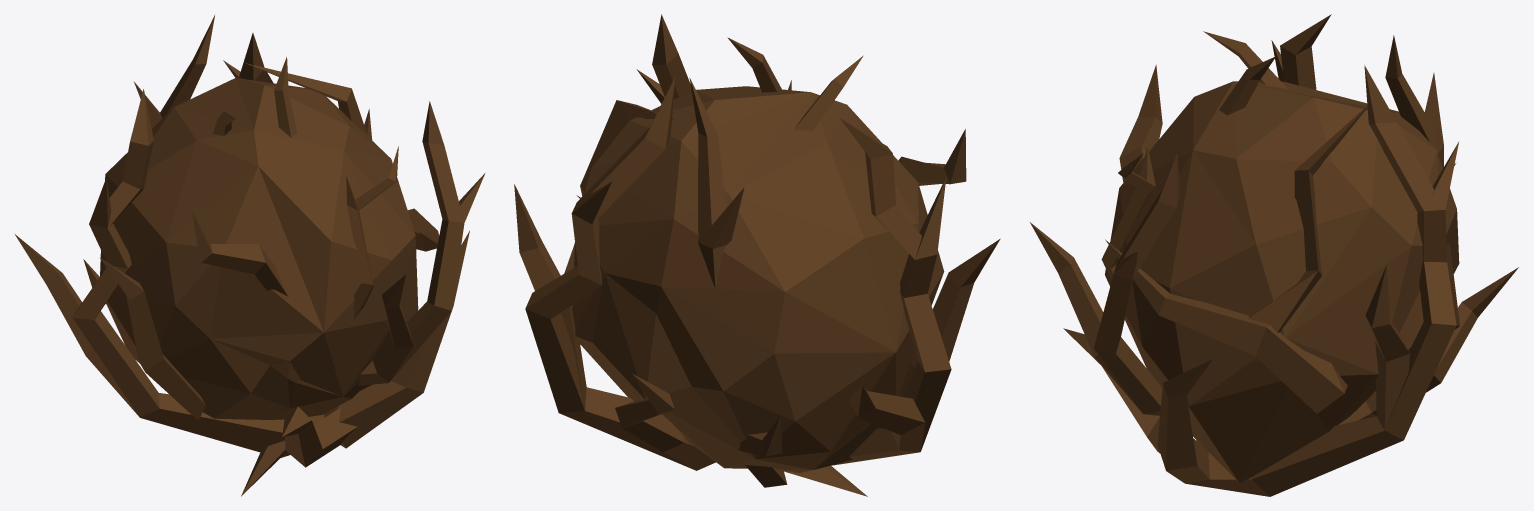
The model's file is SM_Bush_Tumbleweed_Mature_A.fbx.
3 views of the same model, side by side, from view 1: azimuth 30°, elevation 25°; view 2: azimuth 150°, elevation 25°; view 3: azimuth 270°, elevation 25° (orthographic). The views are drawn at different scales.
Visible parts, largest first — view 1: bush-tumbleweed-mature-a; view 2: bush-tumbleweed-mature-a; view 3: bush-tumbleweed-mature-a.
Part boxes in pixels (x1,y1,x2,y2): bush-tumbleweed-mature-a: [15, 14, 485, 496]; bush-tumbleweed-mature-a: [514, 14, 1000, 496]; bush-tumbleweed-mature-a: [1030, 14, 1518, 496].
Bounding box in the file's own units: 0.6806 × 0.7196 × 0.6981.
